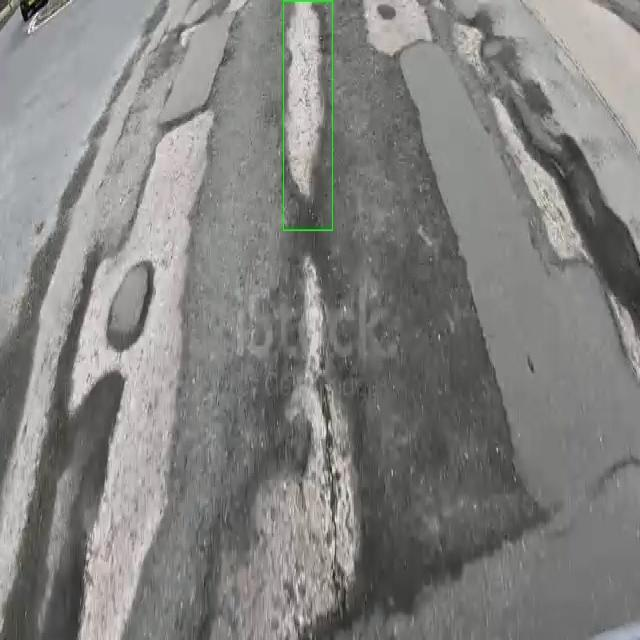pothole: (284, 0, 330, 230), (106, 260, 156, 352)
